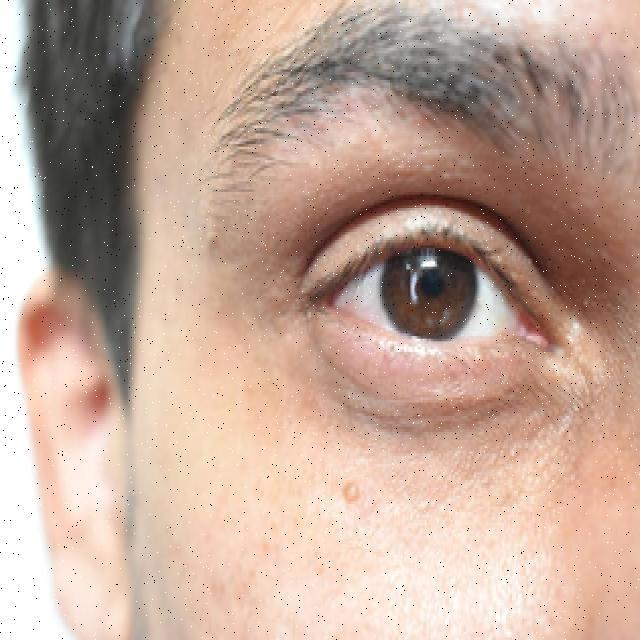Normal: (235, 136, 613, 478)
